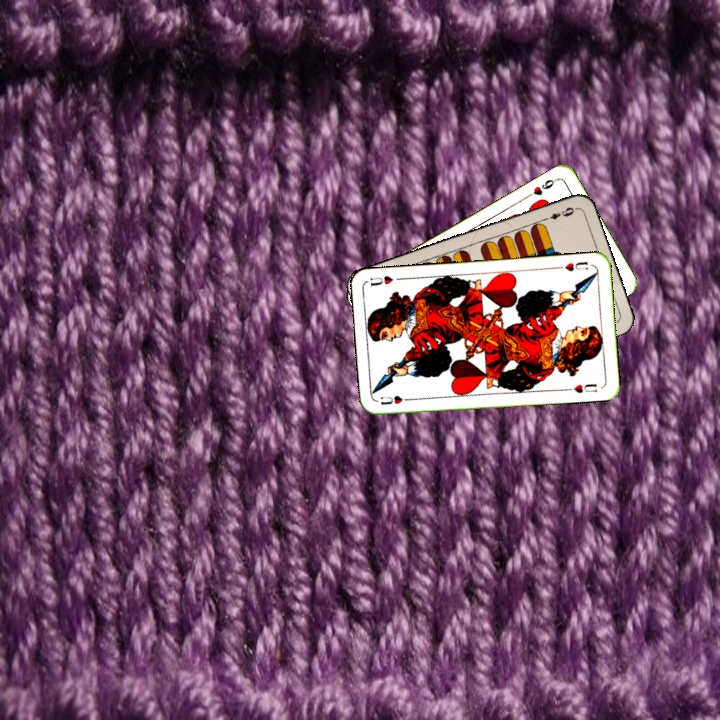E9: (539, 203, 577, 223)
H9: (523, 174, 560, 200)
HU: (554, 257, 590, 274), (377, 391, 415, 407)
